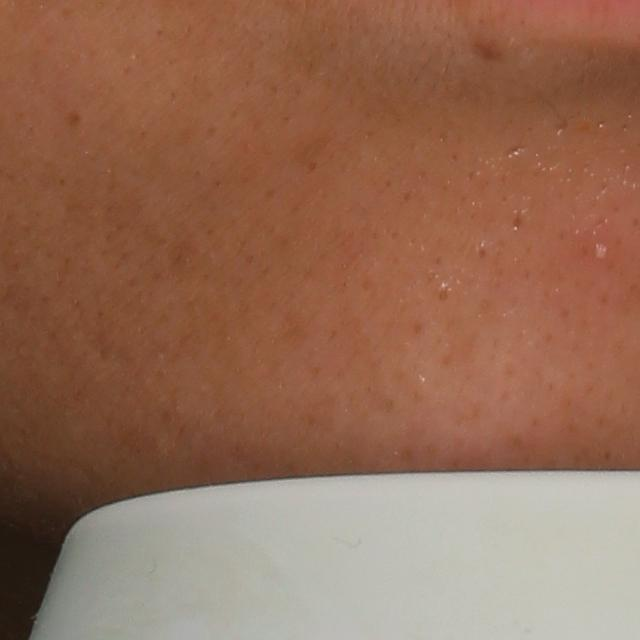nevus: (475, 37, 507, 65)
pustule: (588, 237, 615, 264)
